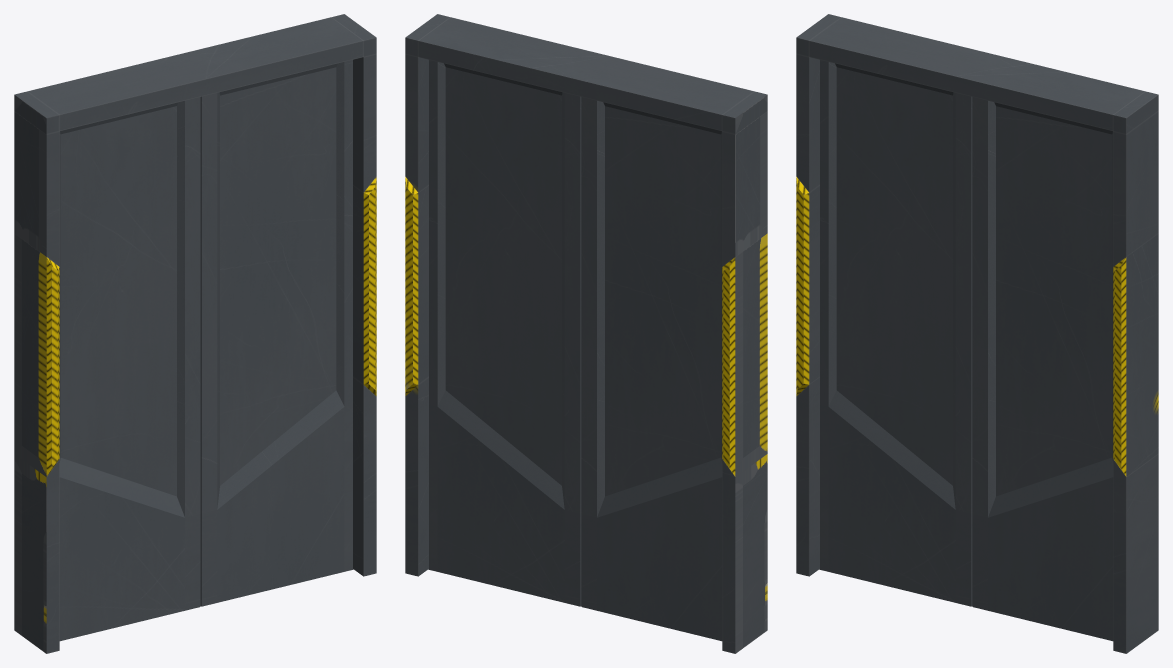
Rendered from Door.gltf.
3 views of the same model, side by side, from view 1: azimuth 30°, elevation 25°; view 2: azimuth 150°, elevation 25°; view 3: azimuth 330°, elevation 25° (orthographic).
Visible parts, largest first — view 1: Cube.002, Cube.001, Cube.003; view 2: Cube.002, Cube.001, Cube.003; view 3: Cube.001, Cube.002, Cube.003.
Part boxes in pixels (left/top/right/bottom): Cube.002: left=200, top=60, right=353, bottom=606; Cube.001: left=59, top=97, right=200, bottom=641; Cube.003: left=14, top=14, right=376, bottom=653; Cube.002: left=428, top=60, right=581, bottom=606; Cube.001: left=581, top=97, right=722, bottom=641; Cube.003: left=405, top=14, right=767, bottom=653; Cube.001: left=819, top=60, right=972, bottom=606; Cube.002: left=972, top=97, right=1113, bottom=641; Cube.003: left=796, top=14, right=1158, bottom=653.
Size of the model in its own units: 2.12 by 3.29 by 0.4076.
Materials: 3 (3 with a texture image).
